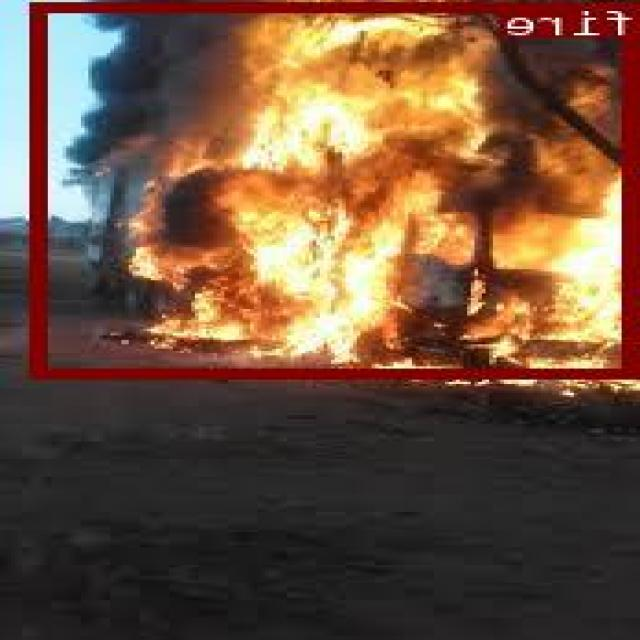fire: (37, 0, 640, 375)
